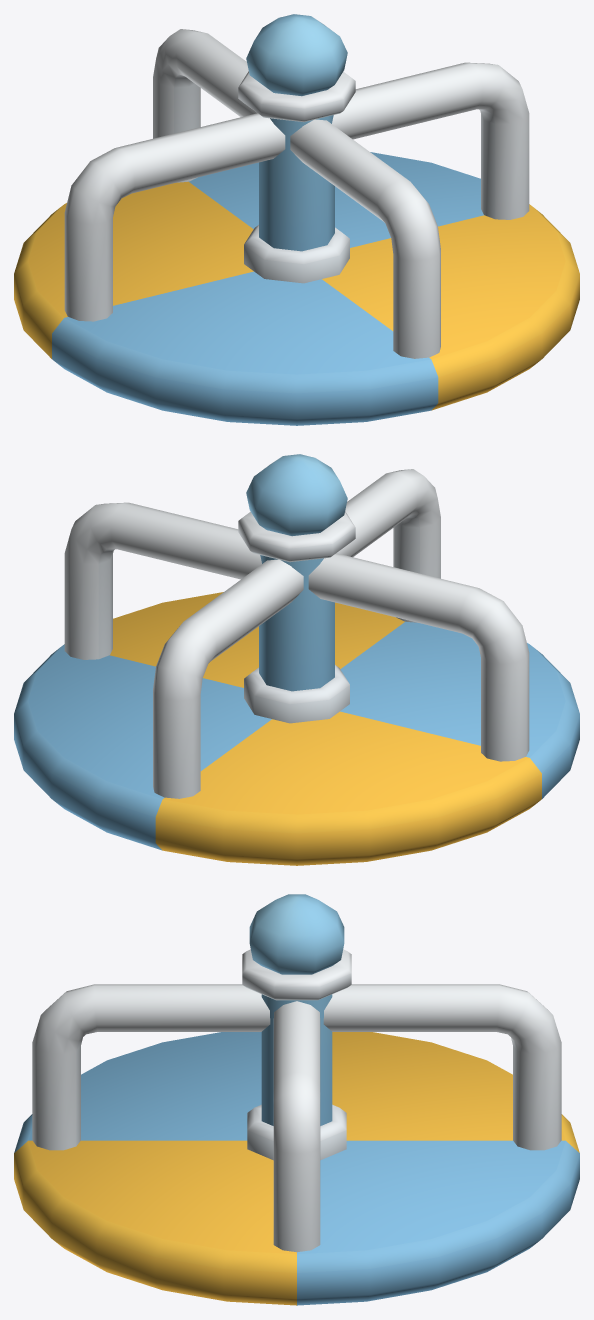
Rendered from merry_go_round.glb.
3 views of the same model, one above another, from view 1: azimuth 30°, elevation 25°; view 2: azimuth 150°, elevation 25°; view 3: azimuth 270°, elevation 25° (orthographic).
Parts seen in each view (by area): view 1: merry_go_round; view 2: merry_go_round; view 3: merry_go_round.
Boxes of the visible parts, x1,y1,x2,y2 form: merry_go_round: [14, 14, 579, 425]; merry_go_round: [14, 454, 579, 865]; merry_go_round: [14, 894, 579, 1305].
Size of the model in its own units: 4 by 2.5 by 4.
Materials: 1 (1 with a texture image).
